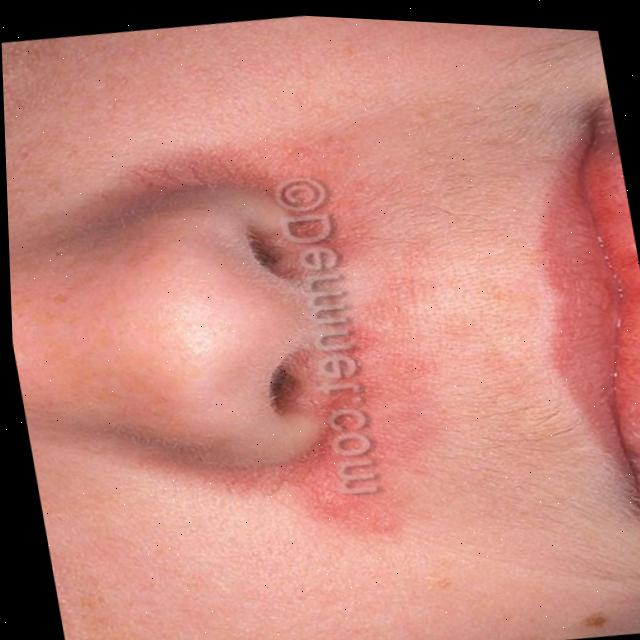Rosacea: (211, 106, 464, 564)
